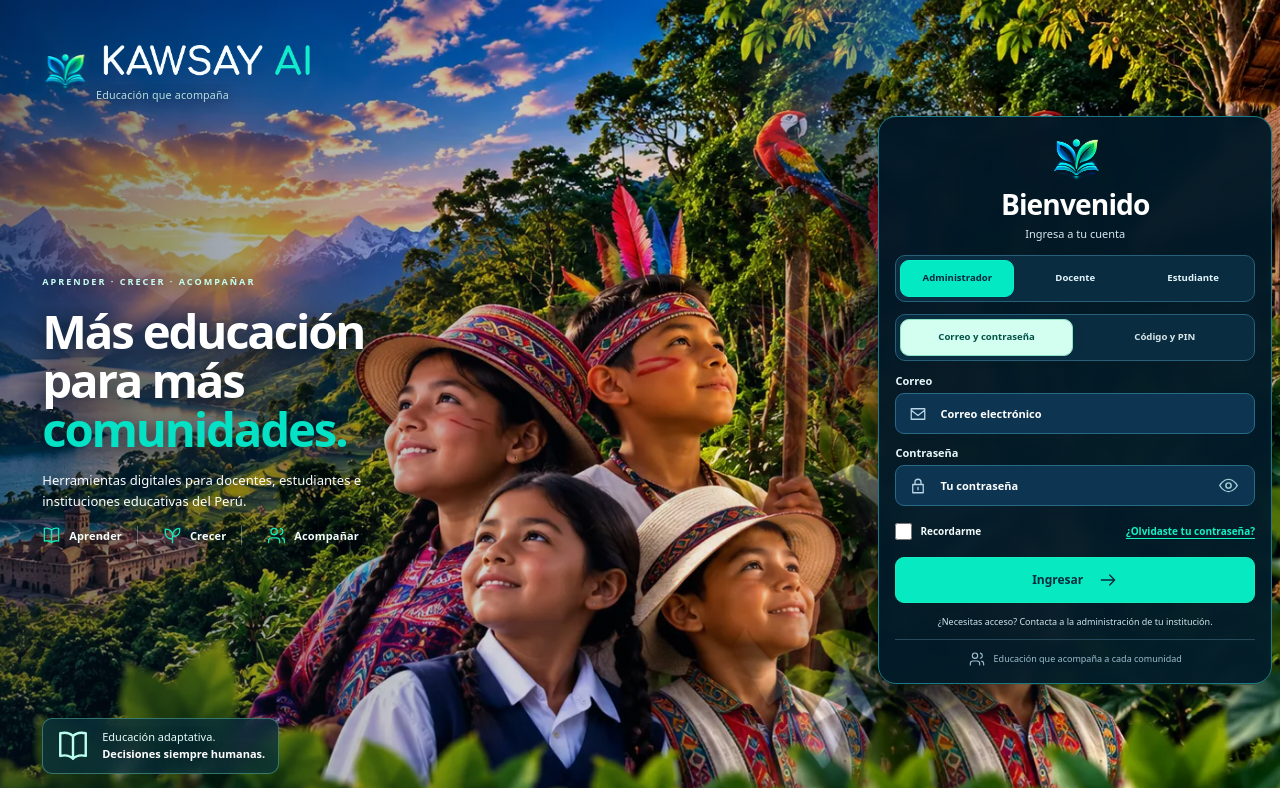
Login y control de acceso › permite acceso de estudiante y muestra sus datos sin exponer rutas docentes
The image size is (1280, 788).
Click the button "Estudiante": coordinates (1193, 278) 1136,260 -> 1250,297
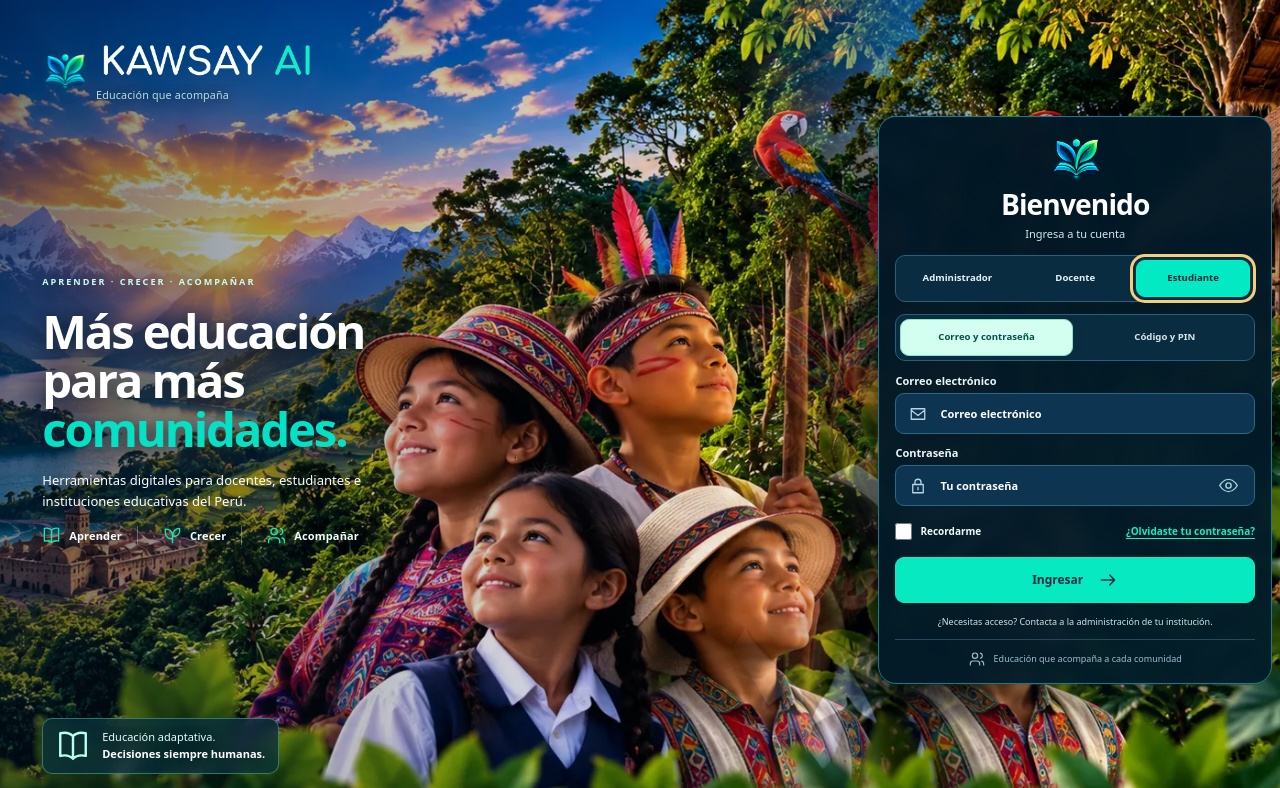
Click the button "Código y PIN": coordinates (1165, 337) 1080,319 -> 1250,356
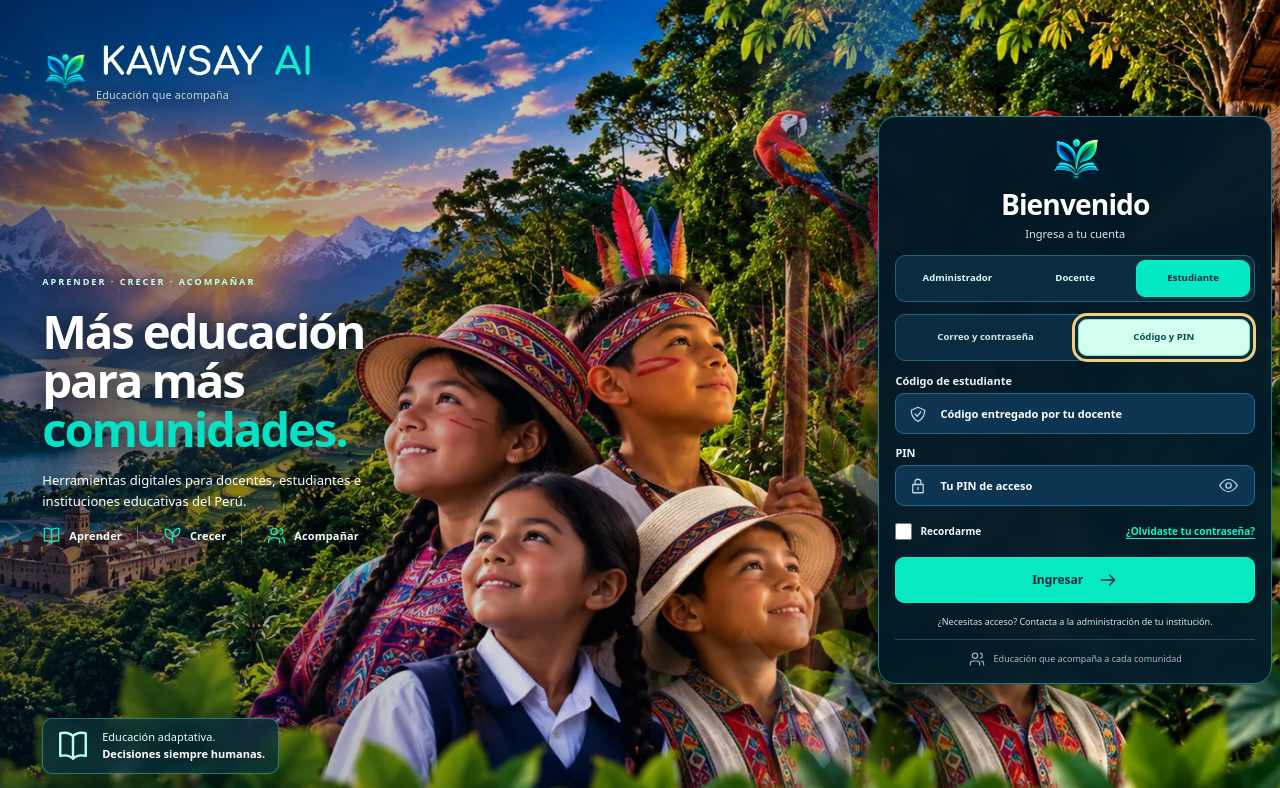
In the field labelled "Código de estudiante": coordinates (1090, 414) 938,395 -> 1241,432, type "ABCD"
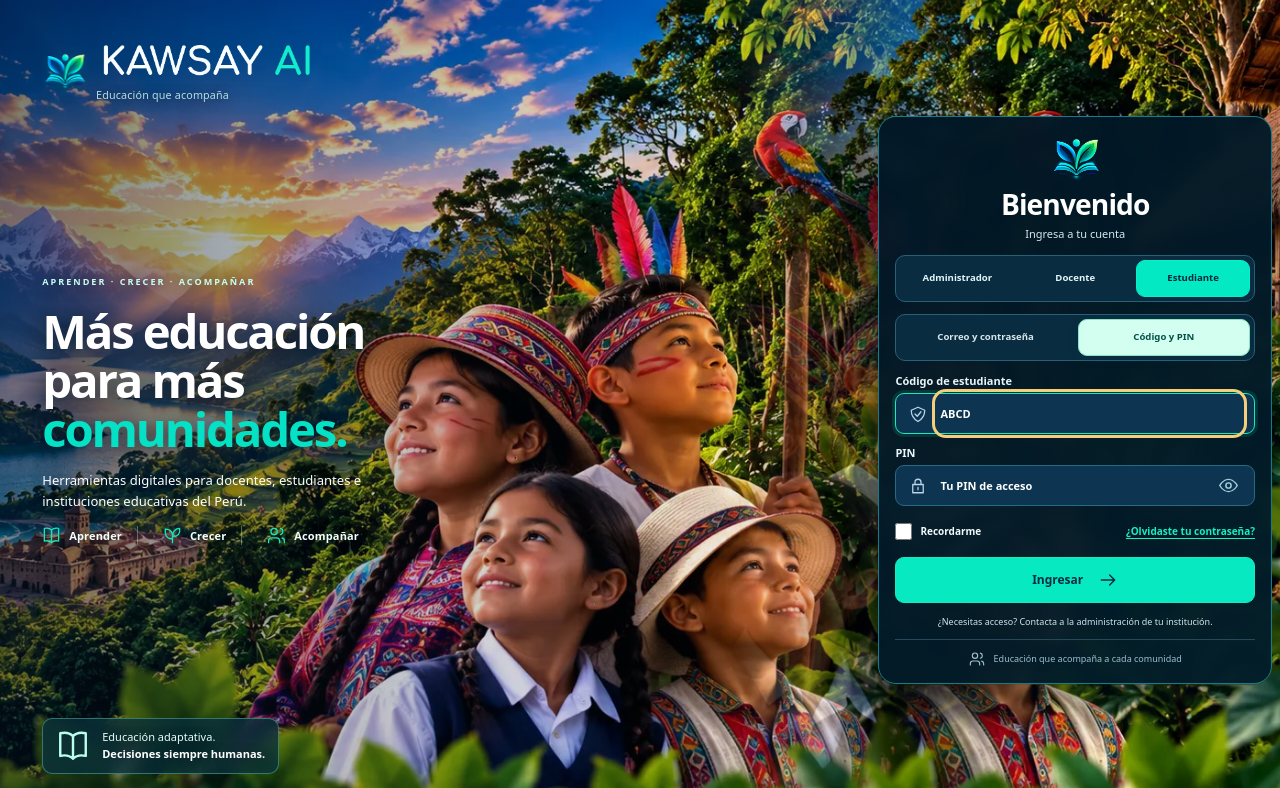
In the password field labelled "PIN": coordinates (1090, 486) 938,468 -> 1241,504, type "1234"
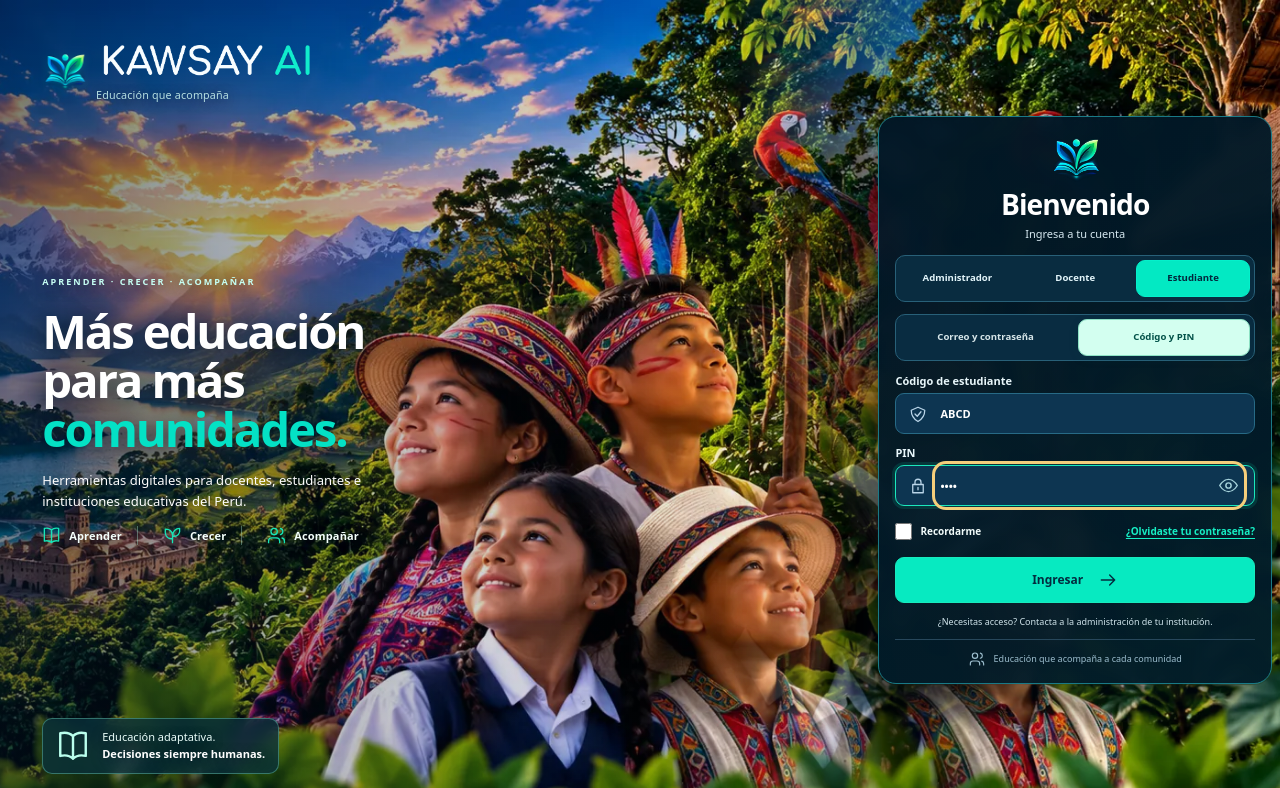
Click the button "Ingresar": coordinates (1075, 580) 895,558 -> 1255,604
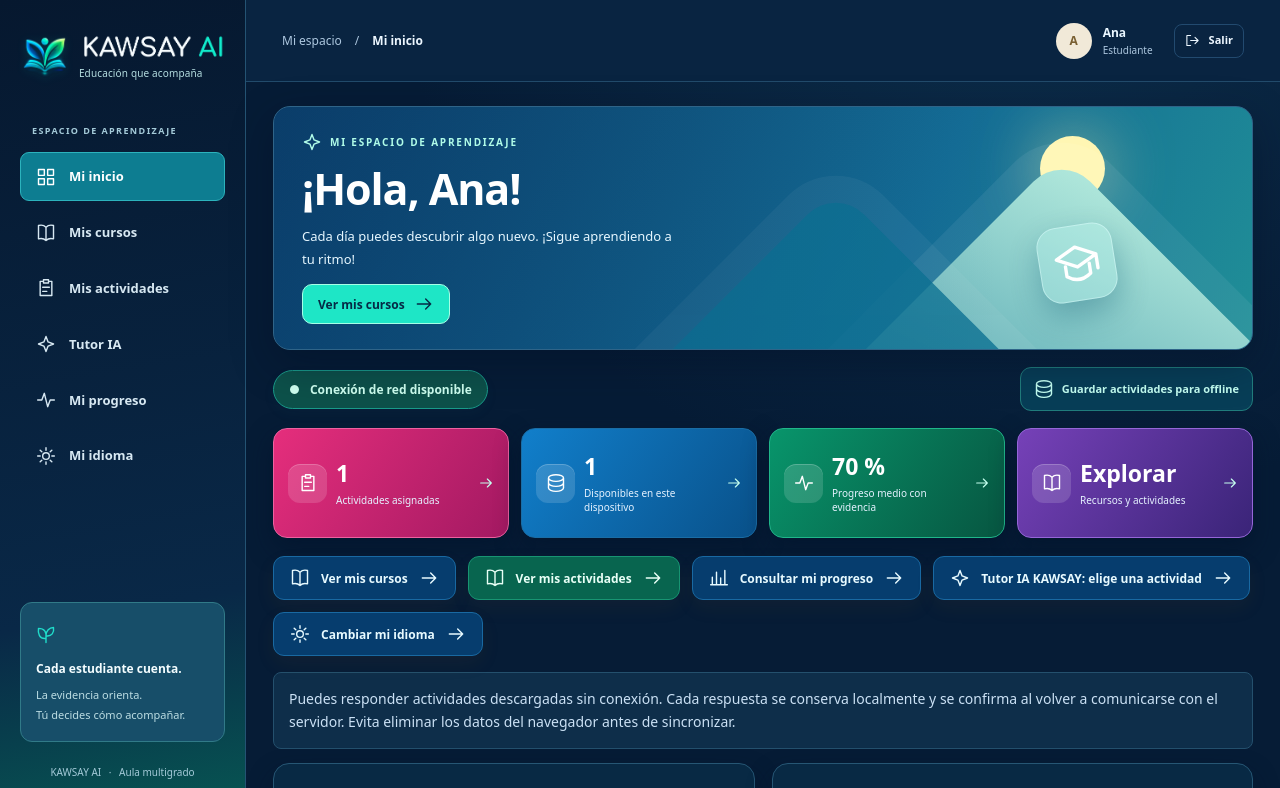
Result: the text "Puedes responder actividades descargadas sin conexión" is shown at 289,689 -> 1218,731
